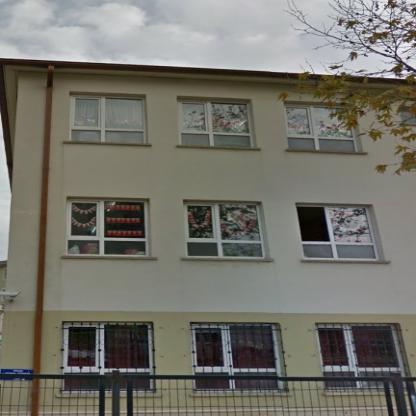window: (64, 324, 149, 389), (194, 327, 280, 390), (68, 202, 148, 255), (320, 328, 404, 376), (298, 206, 374, 258), (189, 204, 261, 257), (71, 97, 143, 143), (181, 102, 252, 146), (287, 107, 357, 150)
